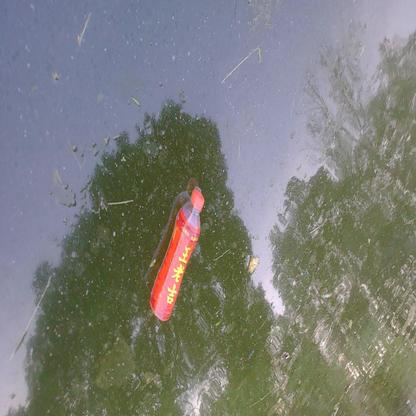plastic bottle: (149, 187, 205, 322)
